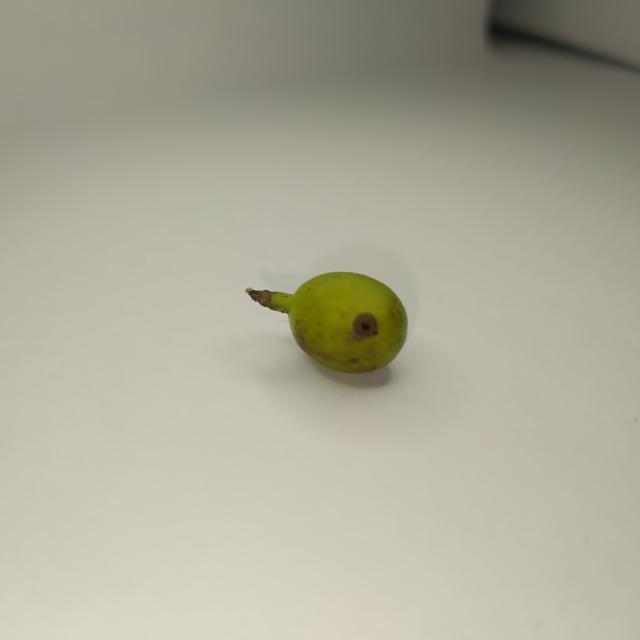Infectado: (286, 272, 407, 373)
